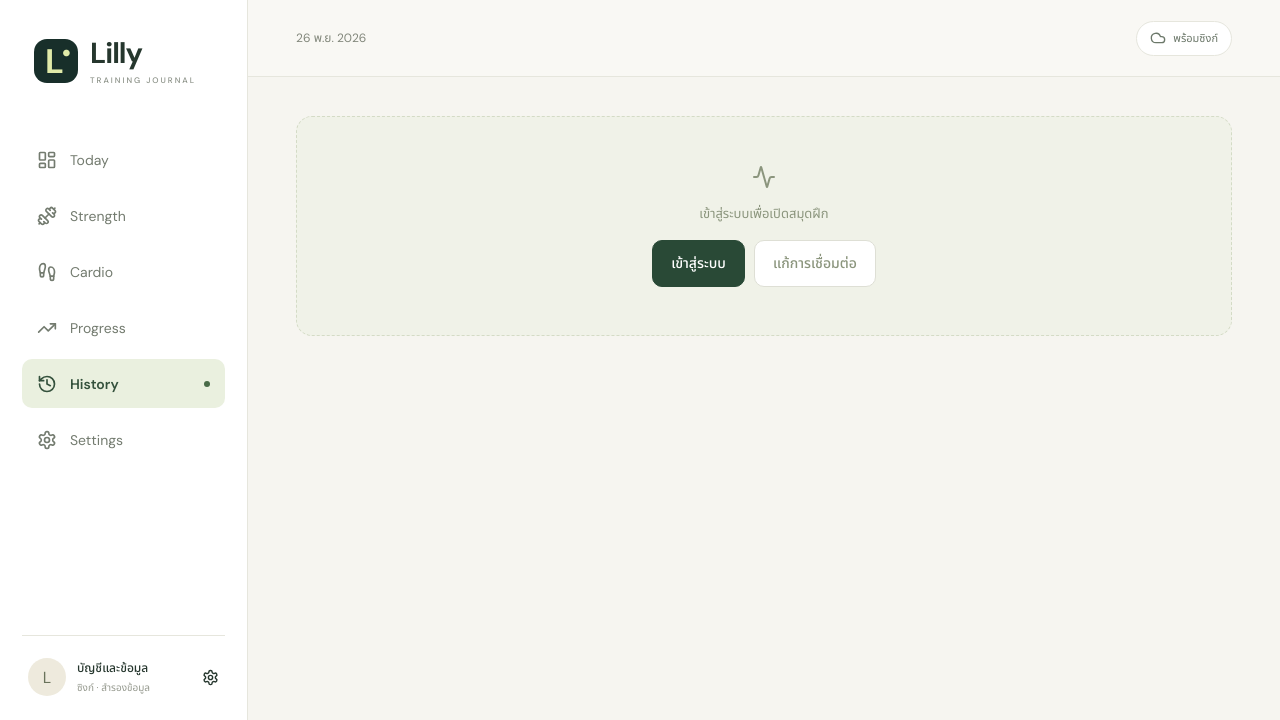
Test: opens the journal right after the first sync even when sign-in finishes while it runs, and stays open on token refresh
Later steps or results of the test are not shown.
Step 1. Click the button "เข้าสู่ระบบ" → (698, 264), box [652, 240, 745, 287]
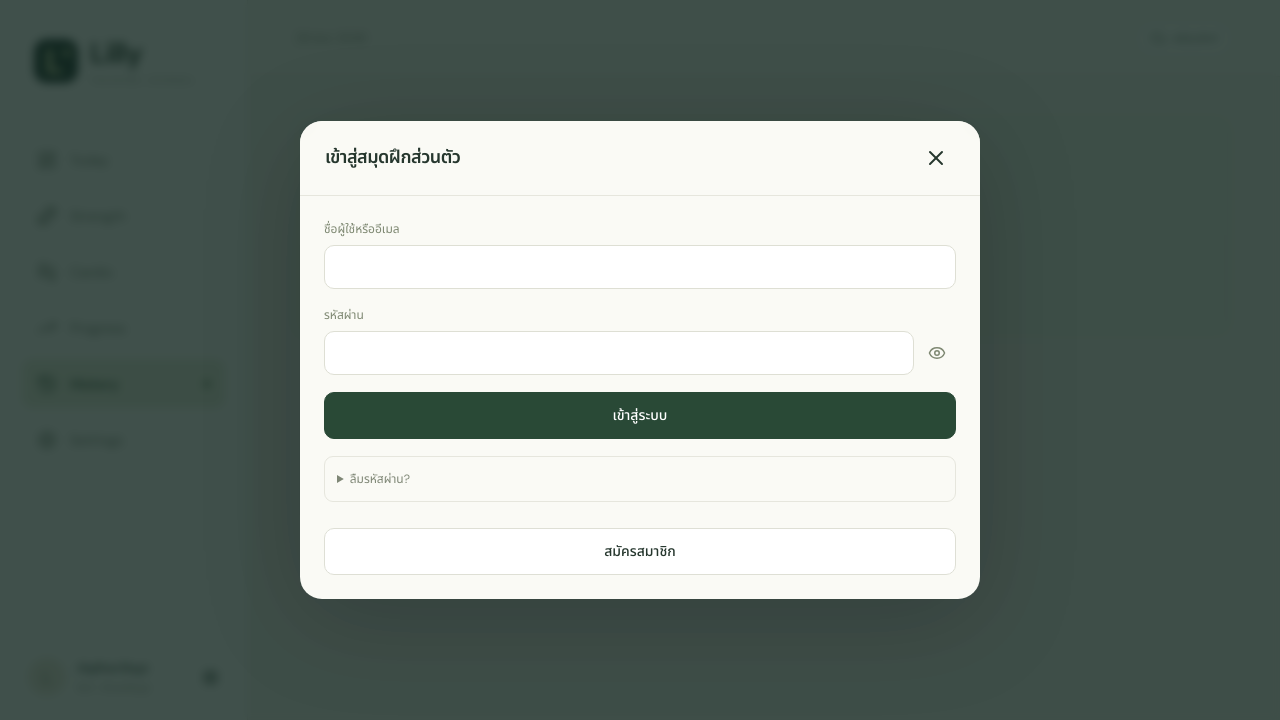
Step 2. Type "friend" into the field labelled "ชื่อผู้ใช้หรืออีเมล" → (640, 267), box [324, 245, 956, 289]
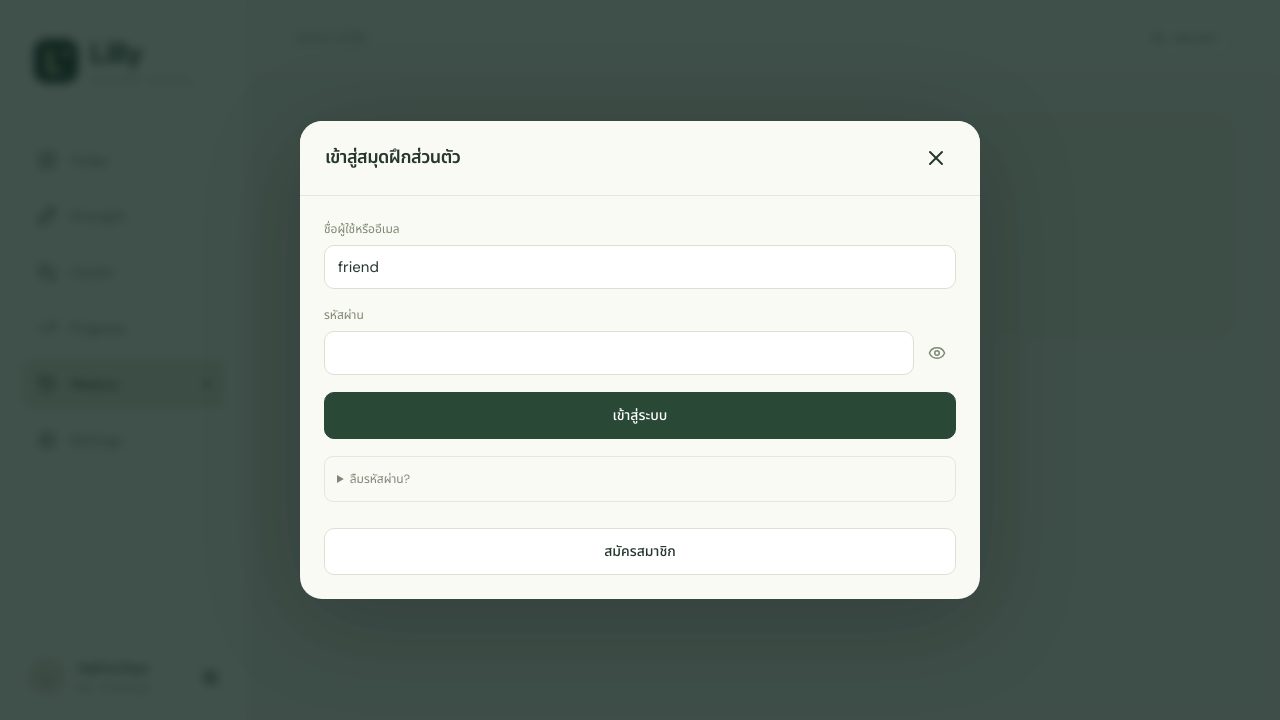
Step 3. Type "not-a-real-password" into the password field named "password" → (619, 353), box [324, 331, 914, 375]
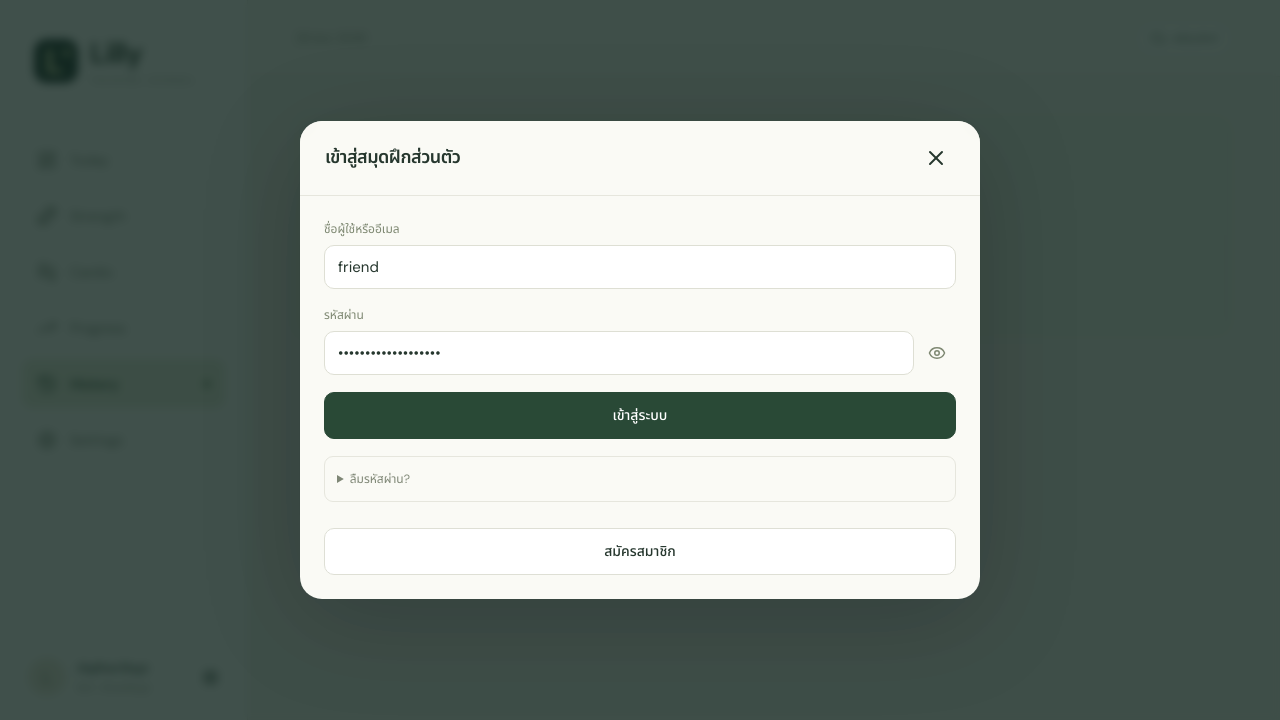
Step 4. Submit the form, box [300, 196, 980, 599]
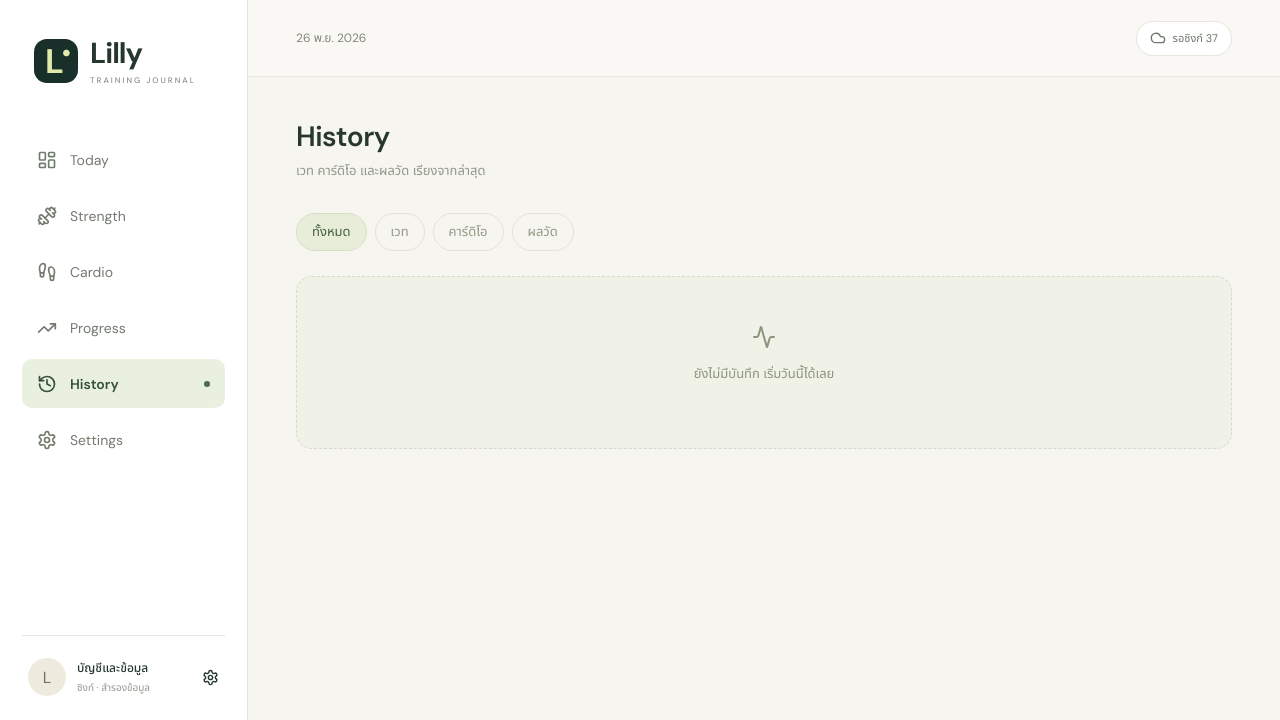
Expected: the heading "History" is shown, [296, 118, 390, 155]
